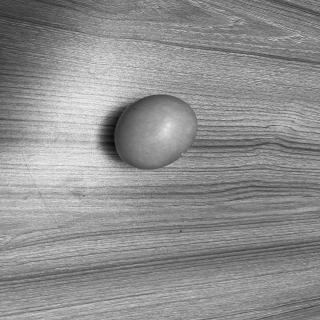Telur: (110, 92, 205, 172)
